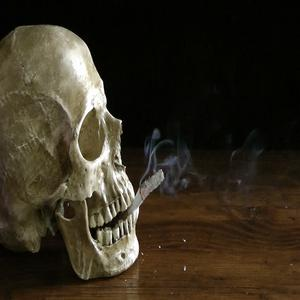cigarette: (120, 166, 170, 218)
